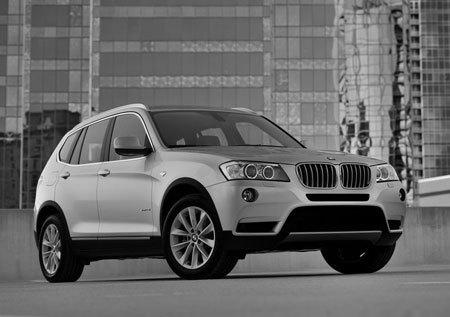car: (33, 105, 410, 284)
